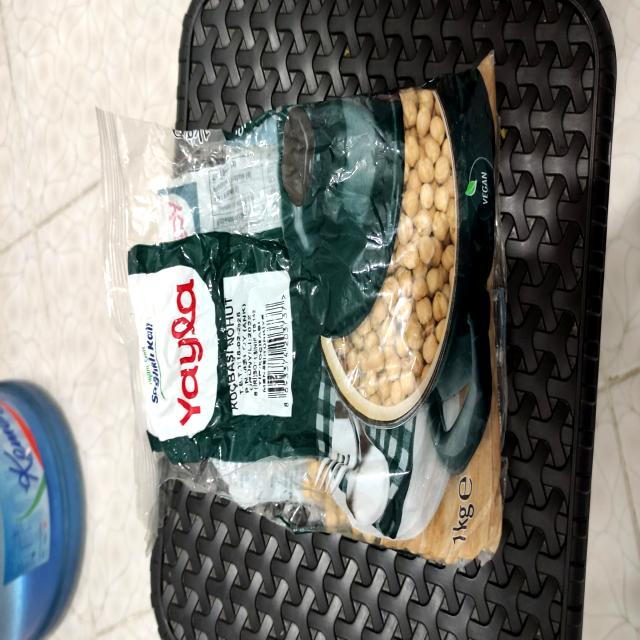chickpeas: (139, 59, 500, 545)
